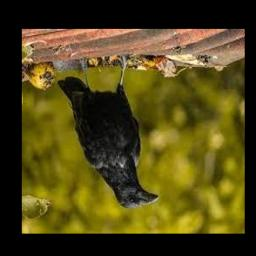Crow: (57, 58, 159, 210)
